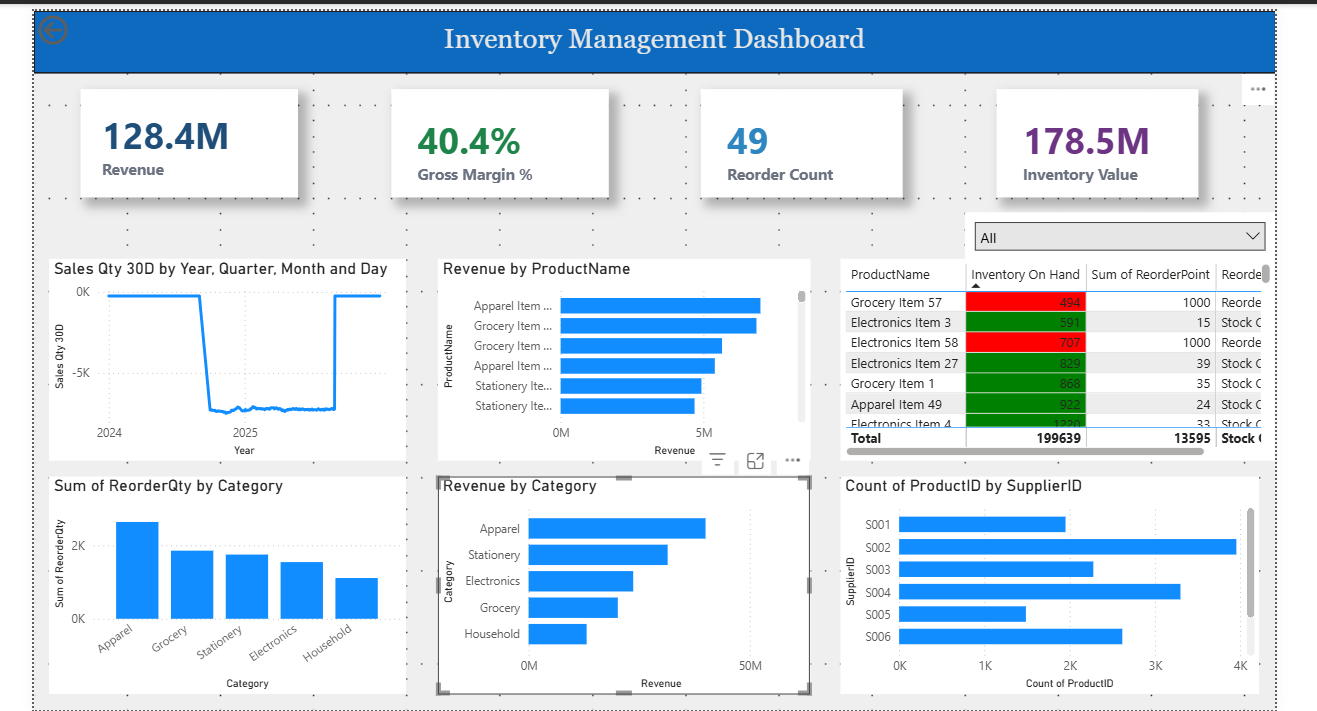

The page's visual inventory and layout, read from the dashboard file:
{"tool":"powerbi","page":{"name":"Page 1","canvas":[1280,720],"ordinal":0},"visuals":[{"type":"cardVisual","fields":{"Data":["Transactions.Revenue"]},"box":[48,80,224,112],"z":0},{"type":"cardVisual","fields":{"Data":["Transactions.Inventory Value"]},"box":[992,80,208,112],"z":1000},{"type":"cardVisual","fields":{"Data":["Transactions.Gross Margin %"]},"box":[368,80,224,112],"z":2000},{"type":"cardVisual","fields":{"Data":["Transactions.Reorder Count"]},"box":[688,80,208,112],"z":3000},{"type":"clusteredBarChart","fields":{"Category":["Products.Category"],"Y":["Transactions.Revenue"]},"box":[416,480,384,224],"z":4000},{"type":"clusteredBarChart","fields":{"Category":["Products.ProductName"],"Y":["Transactions.Revenue"]},"box":[416,256,384,208],"z":5000},{"type":"lineChart","fields":{"Category":["Calendar.Date.Variation.Date Hierarchy.Year","Calendar.Date.Variation.Date Hierarchy.Quarter","Calendar.Date.Variation.Date Hierarchy.Month","Calendar.Date.Variation.Date Hierarchy.Day"],"Y":["Transactions.Sales Qty 30D"]},"box":[16,256,368,208],"z":7000},{"type":"clusteredColumnChart","fields":{"Category":["Products.Category"],"Y":["Sum(Products.ReorderQty)"]},"box":[16,480,368,224],"z":8000},{"type":"clusteredBarChart","fields":{"Y":["CountNonNull(Transactions.ProductID)"],"Category":["Suppliers.SupplierID"]},"box":[832,480,432,224],"z":9000},{"type":"textbox","box":[0,0,1280,64],"z":10000},{"type":"tableEx","fields":{"Values":["Products.ProductName","Transactions.Inventory On Hand","Sum(Products.ReorderPoint)","select","Transactions.Reorderr Status"]},"box":[832,256,448,208],"z":11000},{"type":"actionButton","box":[0,0,100,40],"z":12000},{"type":"slicer","fields":{"Values":["Products.Category"]},"box":[960,208,320,48],"z":13000}]}

Visuals, with their boxes on the page's 1280x720 design canvas (x1, y1, x2, y2). These are canvas units, not pixel positions in the 1317x711 screenshot, which may show the page scaled, cropped or inside an application window:
cardVisual - Transactions.Revenue: Rect(48, 80, 272, 192)
cardVisual - Transactions.Inventory Value: Rect(992, 80, 1200, 192)
cardVisual - Transactions.Gross Margin %: Rect(368, 80, 592, 192)
cardVisual - Transactions.Reorder Count: Rect(688, 80, 896, 192)
clusteredBarChart - Products.Category x Transactions.Revenue: Rect(416, 480, 800, 704)
clusteredBarChart - Products.ProductName x Transactions.Revenue: Rect(416, 256, 800, 464)
lineChart - Calendar.Date.Variation.Date Hierarchy.Year x Calendar.Date.Variation.Date Hierarchy.Quarter: Rect(16, 256, 384, 464)
clusteredColumnChart - Products.Category x Sum(Products.ReorderQty): Rect(16, 480, 384, 704)
clusteredBarChart - CountNonNull(Transactions.ProductID) x Suppliers.SupplierID: Rect(832, 480, 1264, 704)
textbox: Rect(0, 0, 1280, 64)
tableEx - Products.ProductName x Transactions.Inventory On Hand: Rect(832, 256, 1280, 464)
actionButton: Rect(0, 0, 100, 40)
slicer - Products.Category: Rect(960, 208, 1280, 256)
